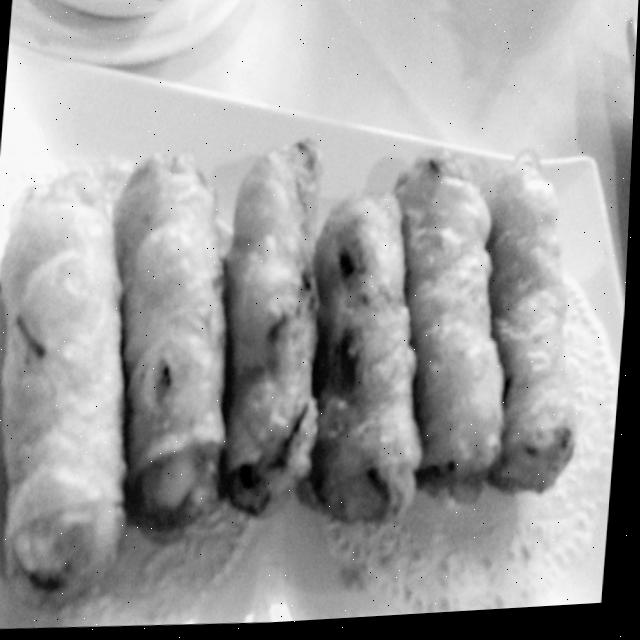炸货点心: (0, 64, 613, 627)
